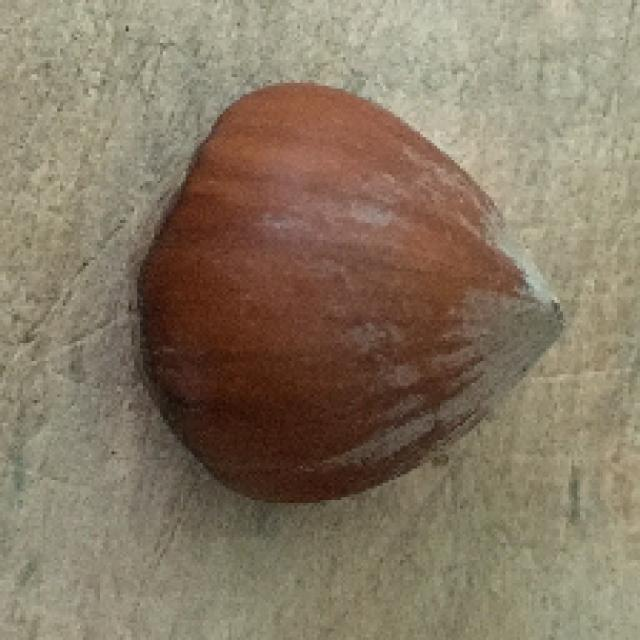qualityHazelnut: (134, 71, 569, 517)
